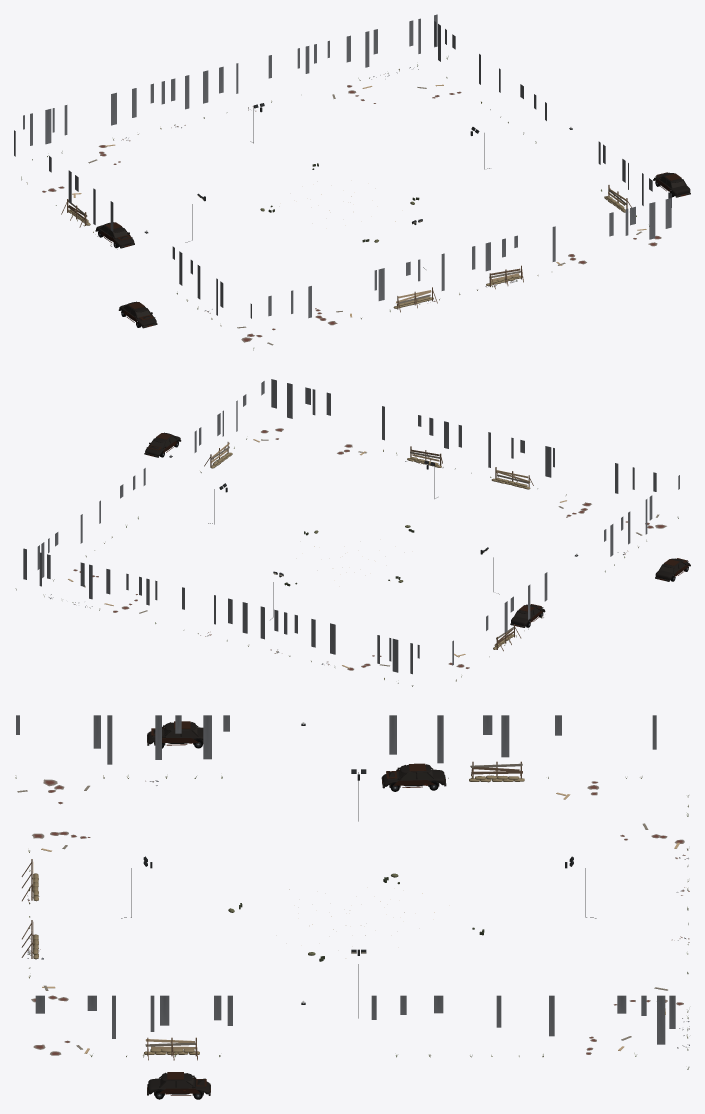
Rendered from map_zombies_dressing.gltf.
3 views of the same model, one above another, from view 1: azimuth 30°, elevation 25°; view 2: azimuth 150°, elevation 25°; view 3: azimuth 270°, elevation 25° (orthographic). The views are drawn at different scales.
Parts seen in each view (by area): view 1: map_zombies_dressing_s, map_zombies_dressing_n, map_zombies_dressing_ground; view 2: map_zombies_dressing_s, map_zombies_dressing_n, map_zombies_dressing_ground; view 3: map_zombies_dressing_s, map_zombies_dressing_n, map_zombies_dressing_ground.
Boxes of the visible parts, x1,y1,x2,y2 form: map_zombies_dressing_s: (118, 126, 690, 345); map_zombies_dressing_n: (14, 14, 546, 248); map_zombies_dressing_ground: (42, 85, 661, 342); map_zombies_dressing_s: (144, 379, 690, 581); map_zombies_dressing_n: (23, 468, 547, 674); map_zombies_dressing_ground: (73, 428, 666, 670); map_zombies_dressing_s: (16, 715, 359, 1099); map_zombies_dressing_n: (361, 715, 679, 1050); map_zombies_dressing_ground: (31, 779, 684, 1055).
Bounding box in the file's own units: 61.97 × 5.11 × 48.95.
